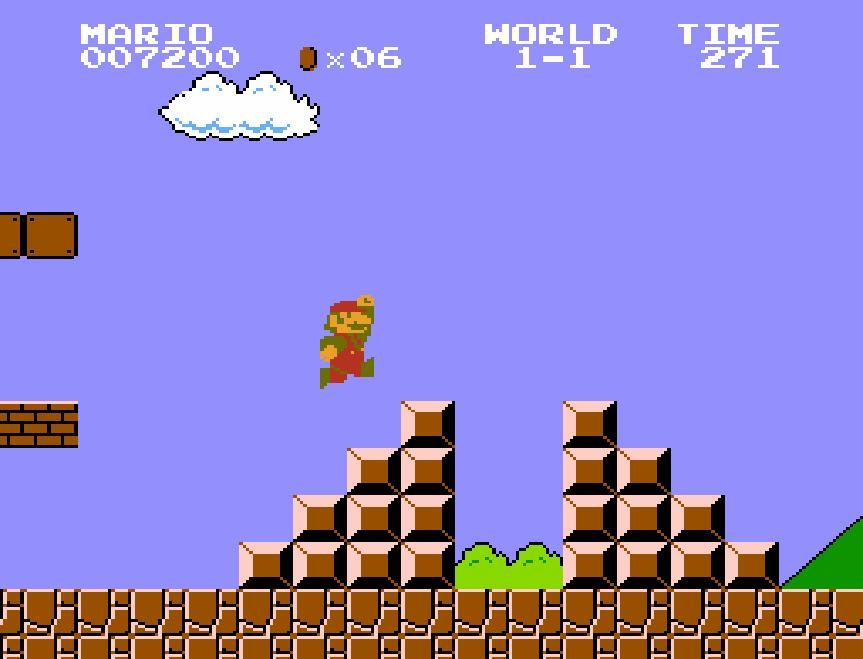big_mario: (318, 292, 376, 390)
